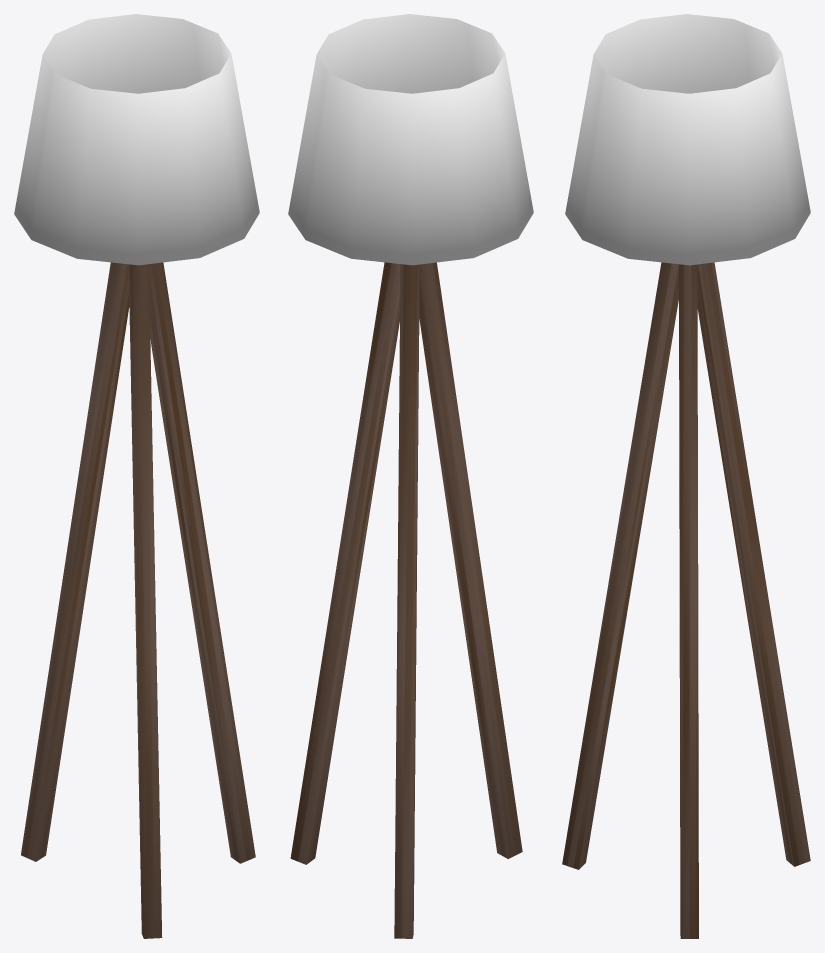
The model's file is lamp.glb.
3 renders of one model, left to right at view 1: azimuth 30°, elevation 25°; view 2: azimuth 150°, elevation 25°; view 3: azimuth 270°, elevation 25°, orthographic.
Visible parts, largest first — view 1: Object_60; view 2: Object_60; view 3: Object_60.
Part boxes in pixels (x1=…): Object_60: x1=14, y1=14, x2=259, y2=938; Object_60: x1=288, y1=14, x2=533, y2=938; Object_60: x1=562, y1=14, x2=810, y2=938.
Size of the model in its own units: 0.3812 by 1.37 by 0.3706.
Materials: 1 (1 with a texture image).
